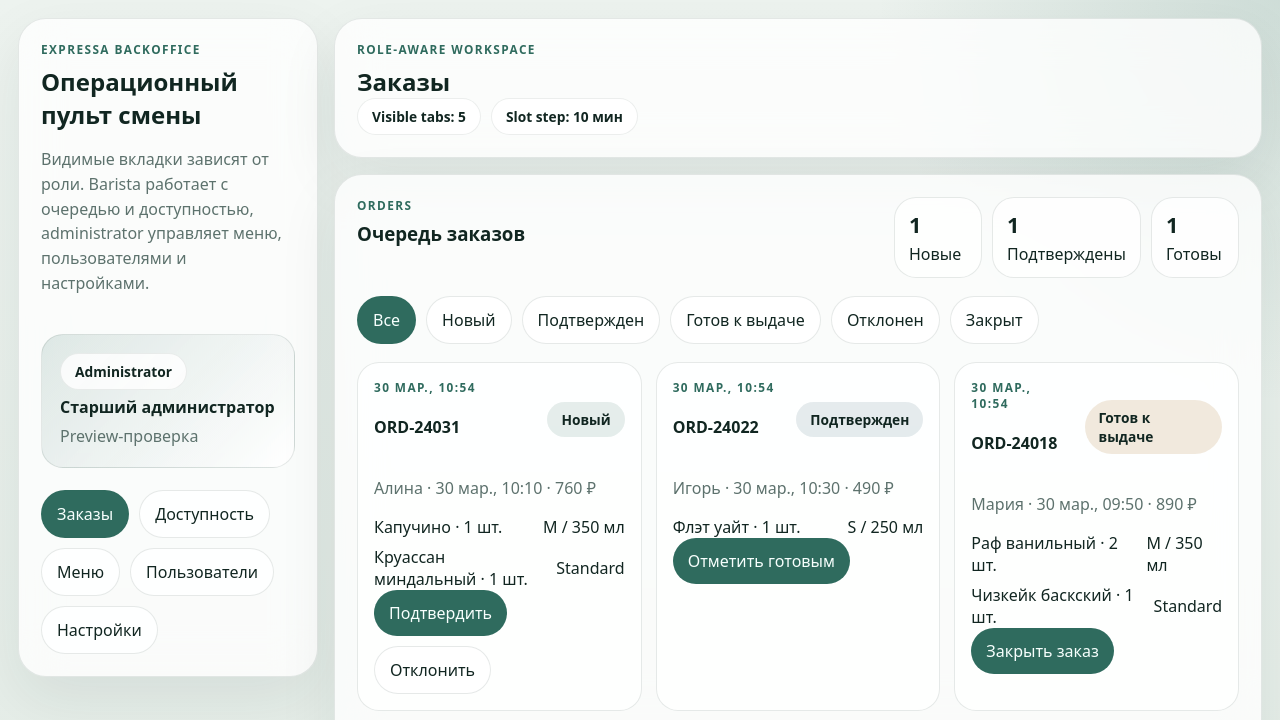
Test case: Backoffice App › requires a reject reason before submitting the dialog
What coordinates should you click on to do the following:
click the button "Отклонить"
I would click on:
 (433, 670)
Its box is [374,646,491,694].
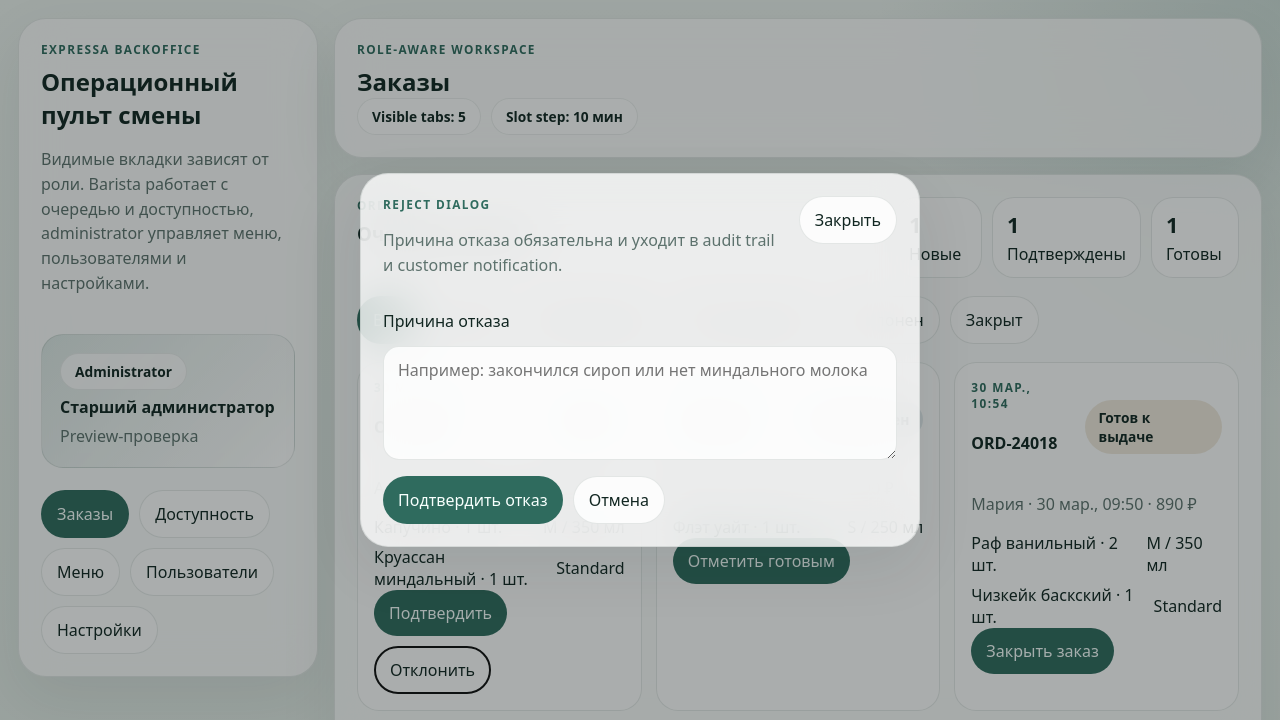
What coordinates should you click on to do the following:
click the button "Подтвердить отказ"
I would click on:
 (473, 500)
Its box is [383,476,563,524].
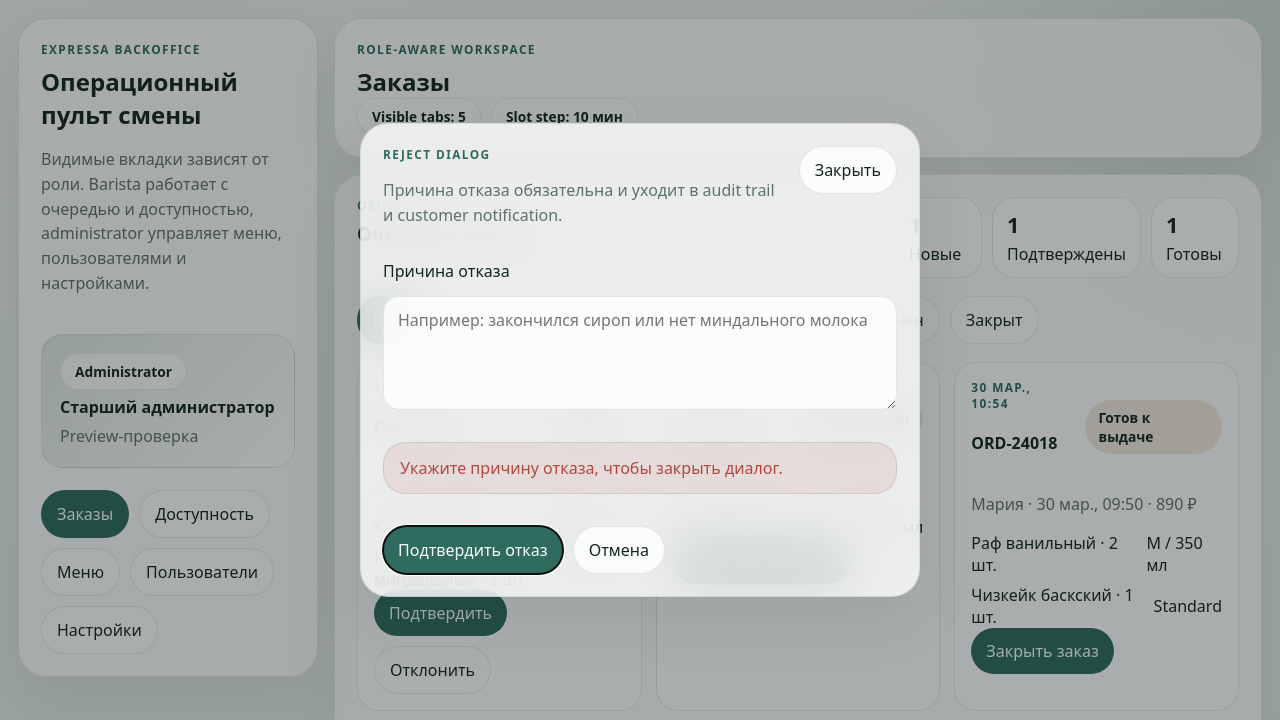
Check: the text "Укажите причину отказа, чтобы закрыть диалог." is shown, box [383,442,897,494]
